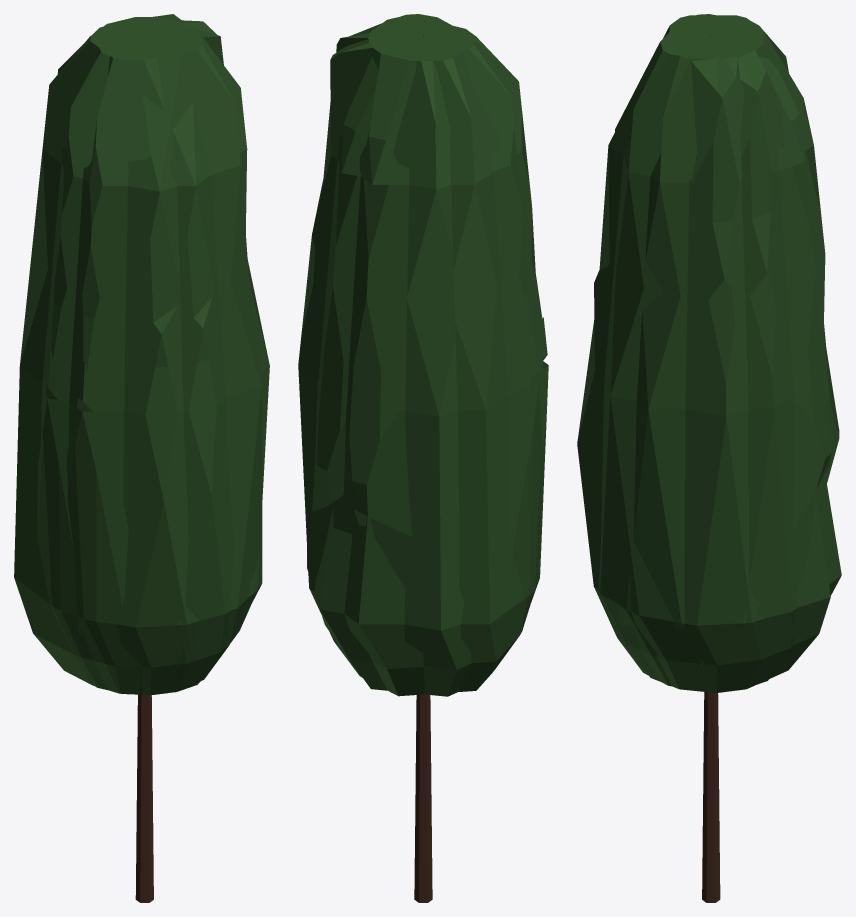
The model's file is Plant.fbx.
3 views of the same model, side by side, from view 1: azimuth 30°, elevation 25°; view 2: azimuth 150°, elevation 25°; view 3: azimuth 270°, elevation 25° (orthographic).
Visible parts, largest first — view 1: Plant; view 2: Plant; view 3: Plant.
Boxes of the visible parts, x1,y1,x2,y2 form: Plant: (14,14,269,902); Plant: (298,14,548,902); Plant: (577,14,841,902).
Size of the model in its own units: 26.03 by 100 by 27.66.
